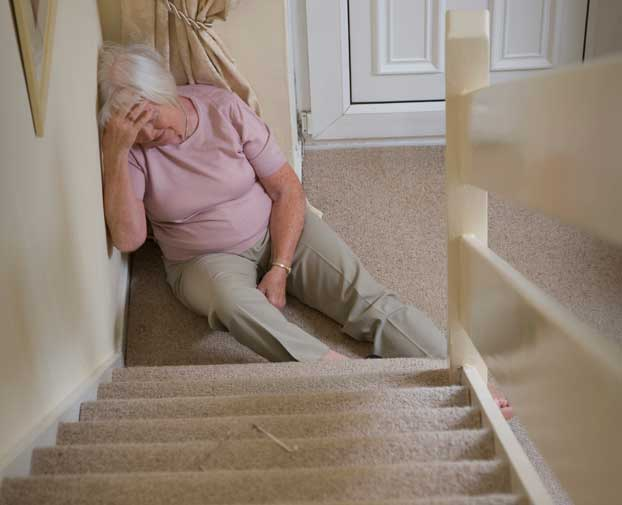collapsed: (68, 19, 482, 408)
